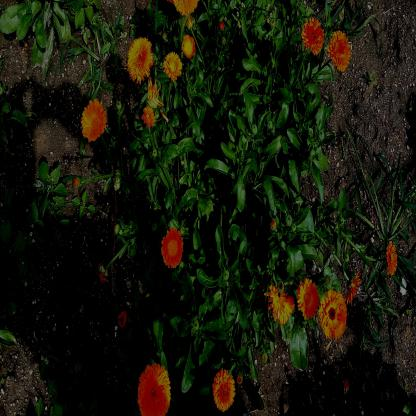marigold: (137, 362, 172, 416), (265, 268, 296, 324), (319, 289, 346, 338), (127, 37, 154, 84), (79, 98, 107, 142), (212, 366, 236, 412), (326, 28, 350, 71), (161, 226, 183, 270), (297, 276, 319, 320), (301, 18, 325, 54), (163, 50, 182, 80), (345, 271, 361, 305), (386, 238, 398, 275), (181, 32, 195, 58)
